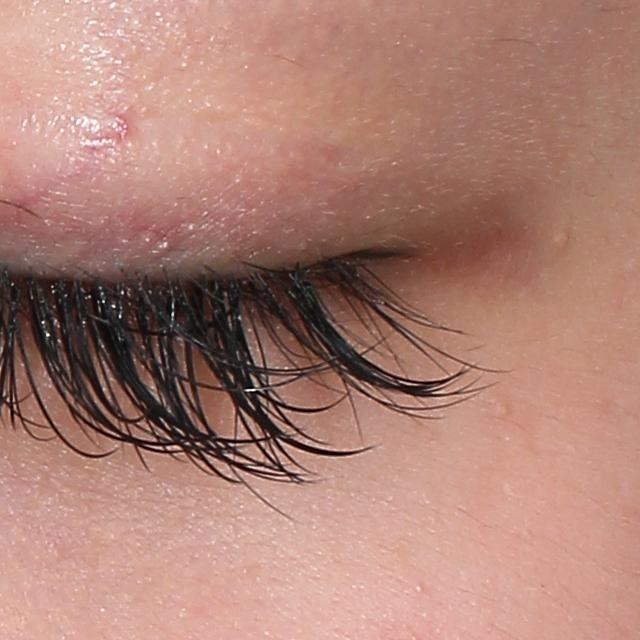comedo: (551, 226, 573, 246), (494, 401, 510, 419)
